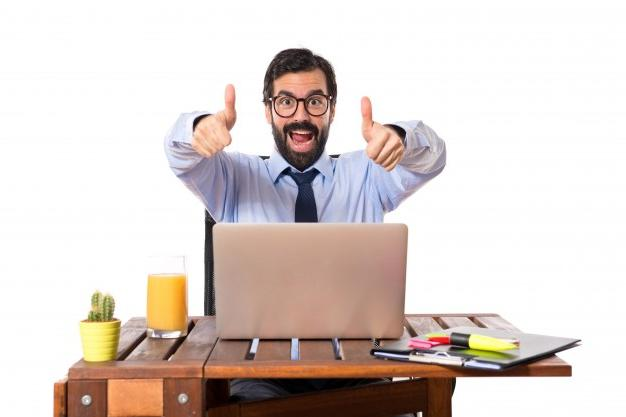thumbsup: (361, 96, 406, 172), (192, 84, 236, 158)
